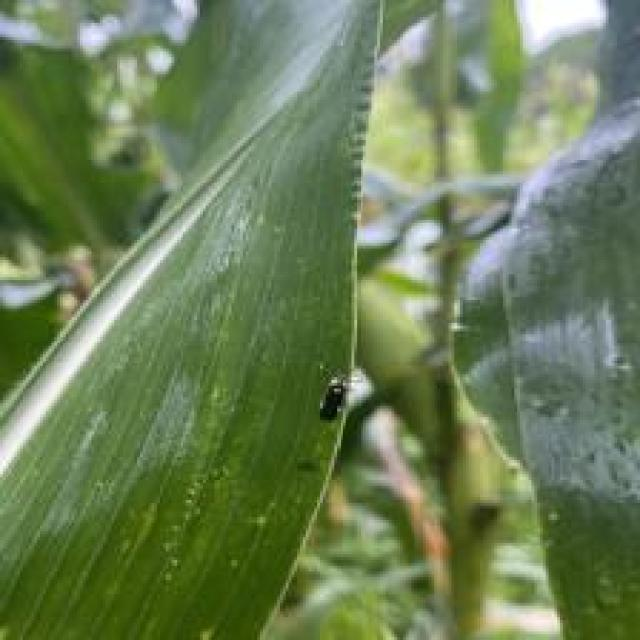Plaga: (291, 345, 380, 454)
